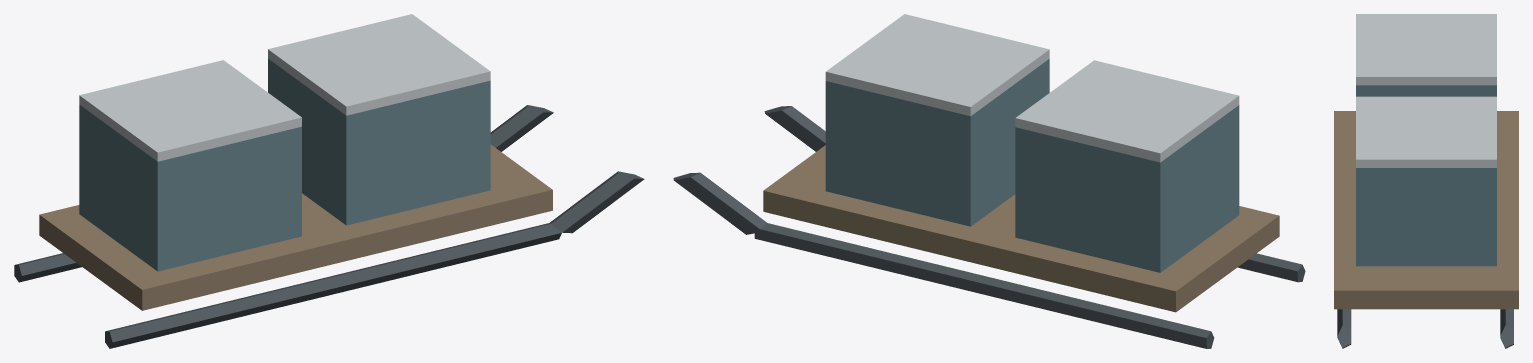
The model's file is ice_sled_load.glb.
3 views of the same model, side by side, from view 1: azimuth 30°, elevation 25°; view 2: azimuth 150°, elevation 25°; view 3: azimuth 270°, elevation 25° (orthographic). The views are drawn at different scales.
Parts seen in each view (by area): view 1: ice_sled_load; view 2: ice_sled_load; view 3: ice_sled_load.
Part boxes in pixels (x1=…): ice_sled_load: x1=14, y1=14, x2=644, y2=348; ice_sled_load: x1=673, y1=14, x2=1305, y2=348; ice_sled_load: x1=1334, y1=14, x2=1518, y2=348.
Size of the model in its own units: 3 by 0.95 by 1.
